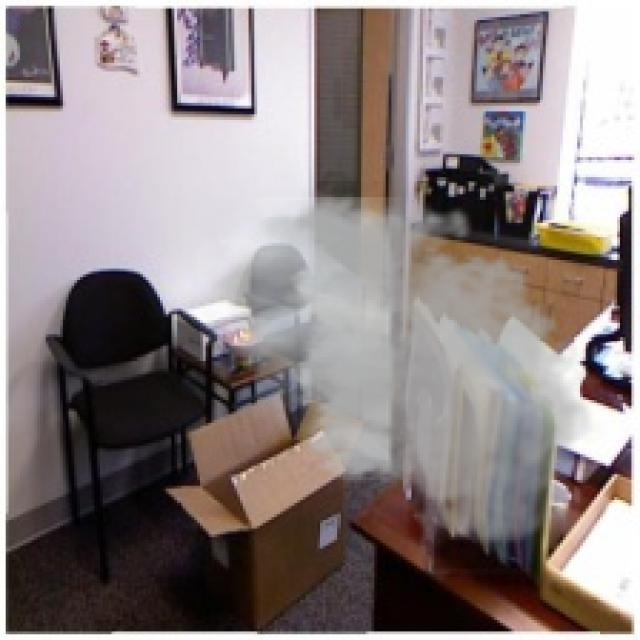smoke: (197, 183, 609, 551)
